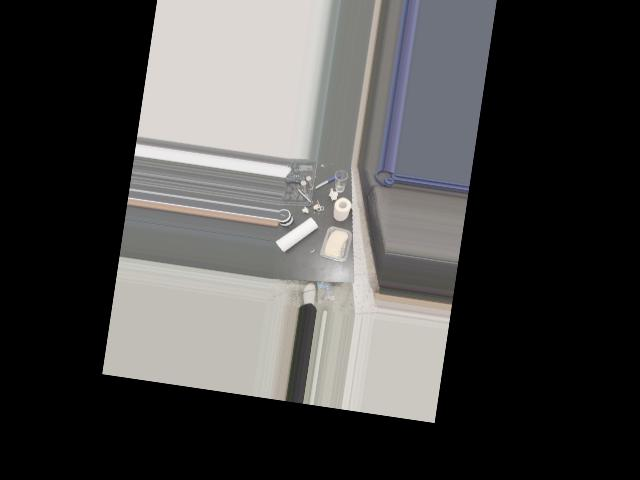cheese: (317, 224, 354, 266)
